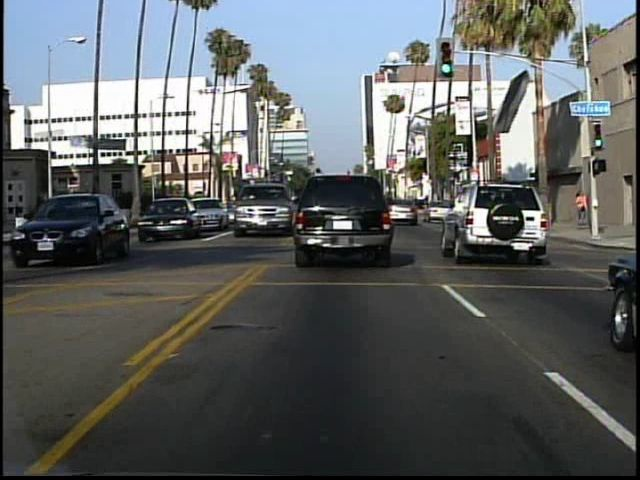person: (574, 188, 590, 228)
